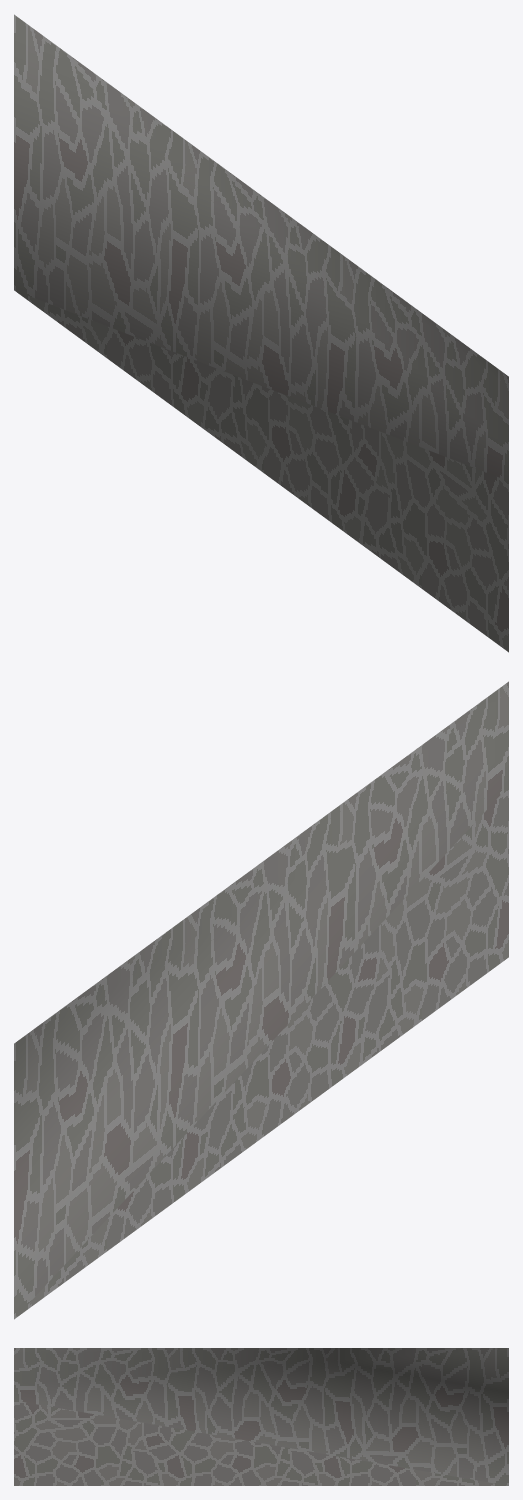
The model's file is kd_stage_135ded_4_14_exterior.glb.
3 renders of one model, top to bottom at view 1: azimuth 30°, elevation 25°; view 2: azimuth 150°, elevation 25°; view 3: azimuth 270°, elevation 25°, orthographic. The views are drawn at different scales.
Visible parts, largest first — view 1: kd_stage_135ded_4_14_exterior; view 2: kd_stage_135ded_4_14_exterior; view 3: kd_stage_135ded_4_14_exterior.
Boxes of the visible parts, left/top/right/bottom form: kd_stage_135ded_4_14_exterior: left=14, top=14, right=508, bottom=652; kd_stage_135ded_4_14_exterior: left=14, top=681, right=508, bottom=1319; kd_stage_135ded_4_14_exterior: left=14, top=1348, right=508, bottom=1485.
Bounding box in the file's own units: 7.99e-06 × 0.2695 × 0.8763.
1 material, 1 textured.
